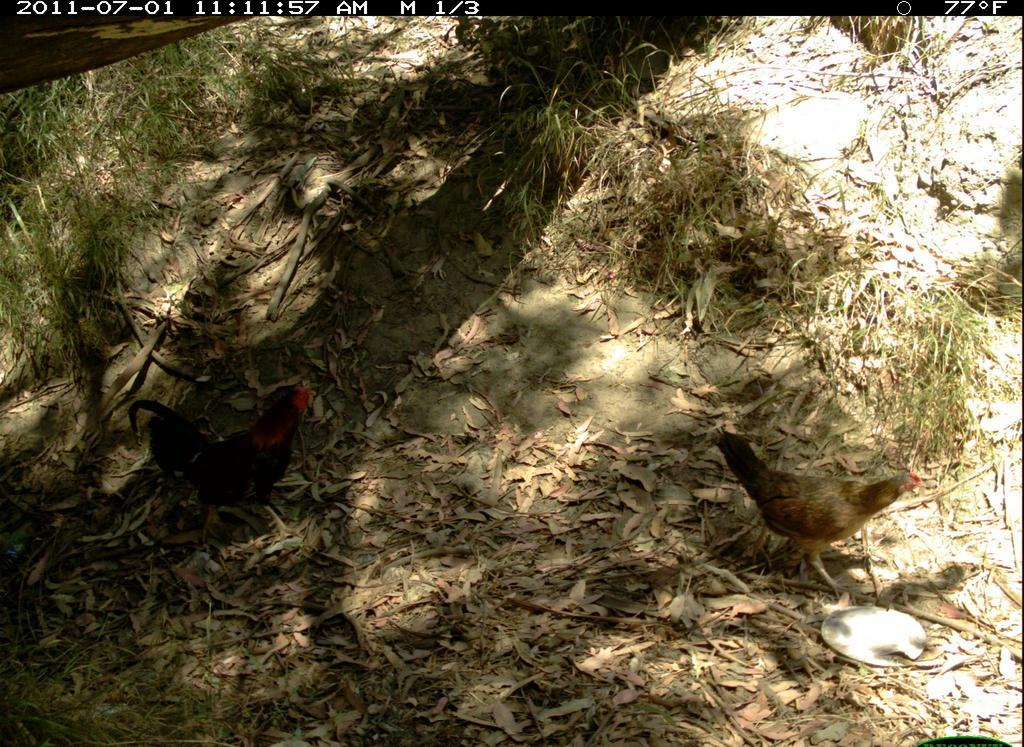bird: (716, 419, 931, 598)
